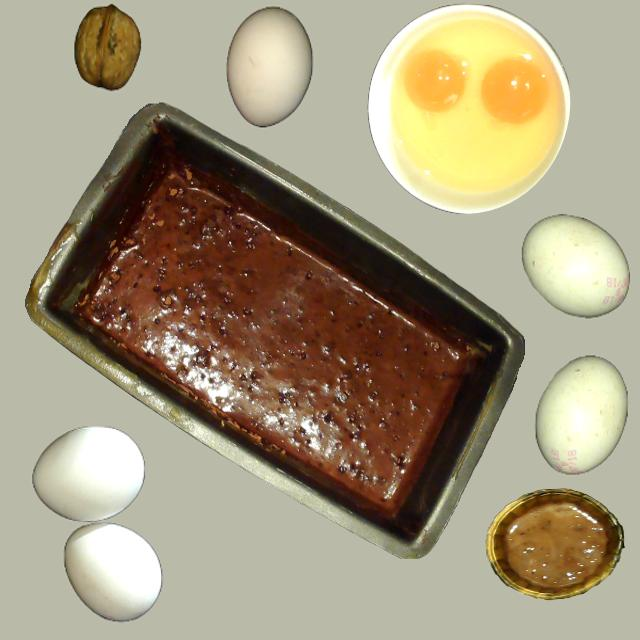Egg: (480, 56, 549, 125), (405, 49, 467, 114)
Sugar: (369, 6, 569, 214)
Walnut: (74, 5, 140, 90)
